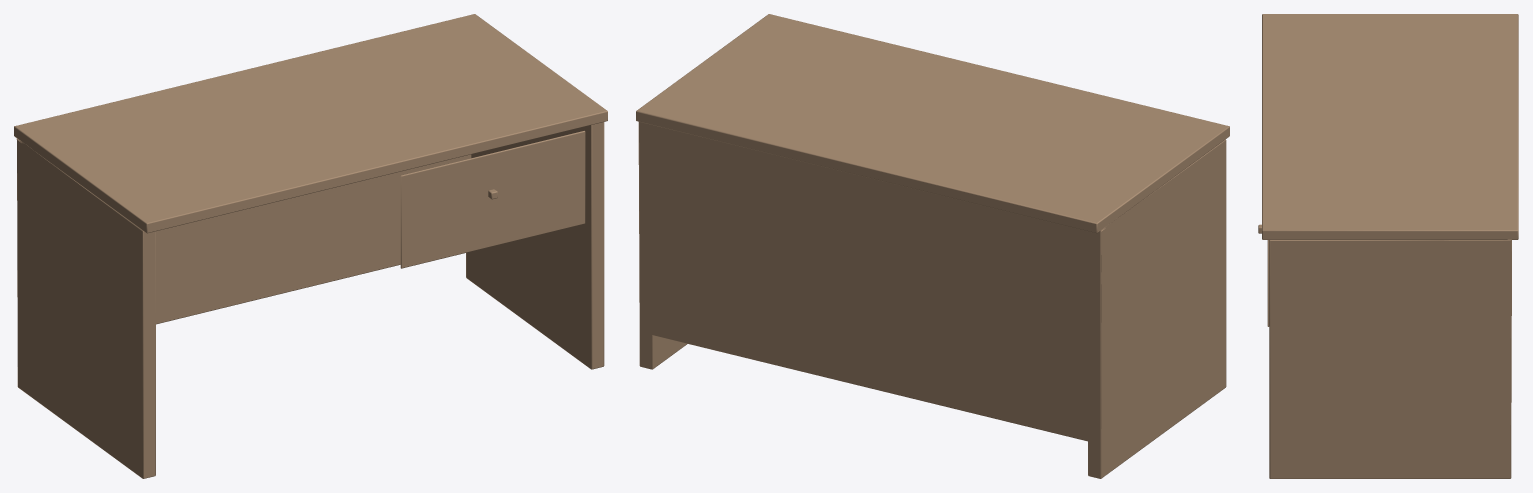
File: BanGiay_Go.glb
3 views of the same model, side by side, from view 1: azimuth 30°, elevation 25°; view 2: azimuth 150°, elevation 25°; view 3: azimuth 270°, elevation 25° (orthographic). The views are drawn at different scales.
Visible parts, largest first — view 1: BanGiay_Go; view 2: BanGiay_Go; view 3: BanGiay_Go.
Boxes of the visible parts, bbox=[...] form: BanGiay_Go: bbox=[14, 14, 607, 478]; BanGiay_Go: bbox=[636, 14, 1229, 478]; BanGiay_Go: bbox=[1258, 14, 1518, 478].
Bounding box in the file's own units: 1.4 × 0.75 × 0.71.
